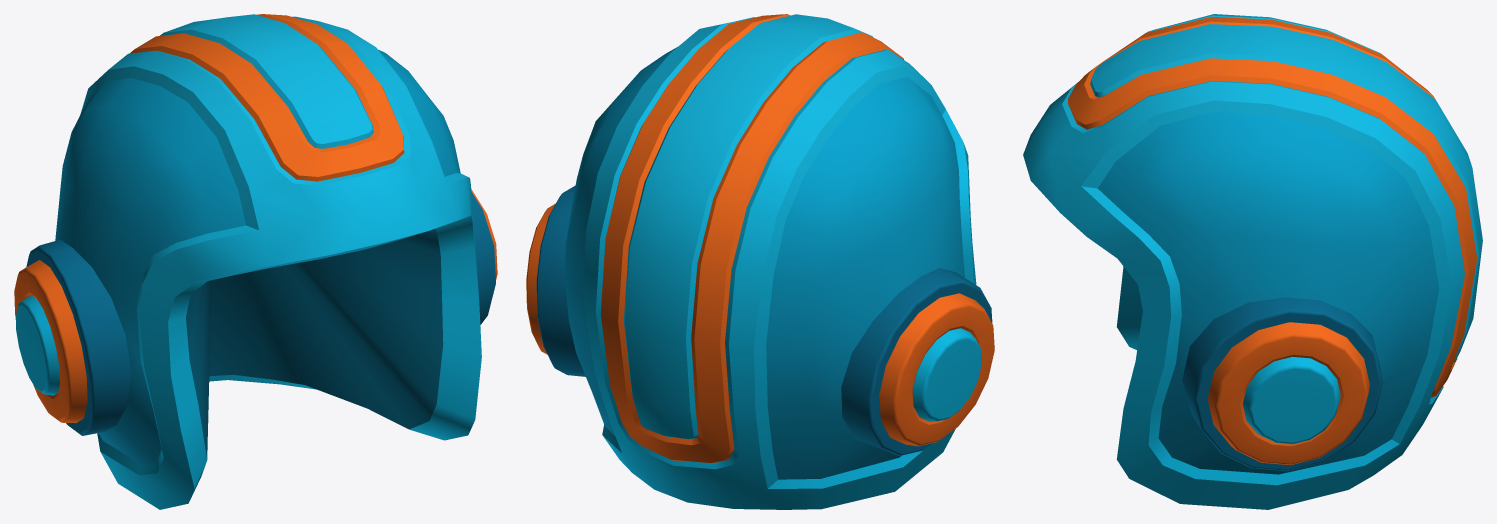
The model's file is Racer_Helmet.fbx.
3 views of the same model, side by side, from view 1: azimuth 30°, elevation 25°; view 2: azimuth 150°, elevation 25°; view 3: azimuth 270°, elevation 25° (orthographic). The views are drawn at different scales.
Parts seen in each view (by area): view 1: Racer_Helmet; view 2: Racer_Helmet; view 3: Racer_Helmet.
Boxes of the visible parts, x1=… form: Racer_Helmet: x1=14, y1=14, x2=497, y2=509; Racer_Helmet: x1=526, y1=14, x2=994, y2=509; Racer_Helmet: x1=1023, y1=14, x2=1482, y2=509.
Bounding box in the file's own units: 37.22 × 34.83 × 34.14.
